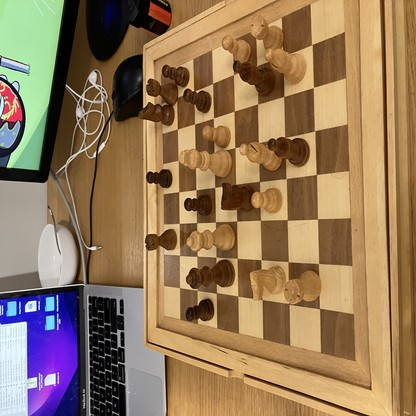bishop_black: (233, 62, 275, 95), (268, 137, 311, 166)
bishop_white: (265, 49, 307, 85)
king_white: (179, 150, 232, 177)
knight_black: (221, 182, 254, 212), (139, 103, 174, 125)
knight_white: (250, 266, 287, 301), (240, 142, 282, 170)
pawn_black: (186, 298, 215, 320), (184, 197, 212, 214), (147, 169, 172, 188)
pawn_white: (222, 36, 251, 62), (251, 189, 282, 213), (203, 125, 231, 147)
queen_black: (187, 259, 235, 289)
queen_white: (186, 224, 235, 250)
rock_black: (146, 79, 179, 104), (184, 89, 212, 113), (145, 229, 177, 249), (162, 64, 189, 86)
rock_white: (284, 270, 322, 304), (250, 15, 283, 49)
